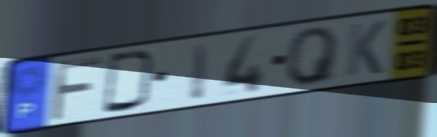4: (219, 33, 270, 96)
D: (100, 49, 159, 116)
F: (48, 55, 106, 124)
I: (187, 39, 213, 104)
K: (343, 18, 389, 79)
Q: (285, 24, 343, 88)
